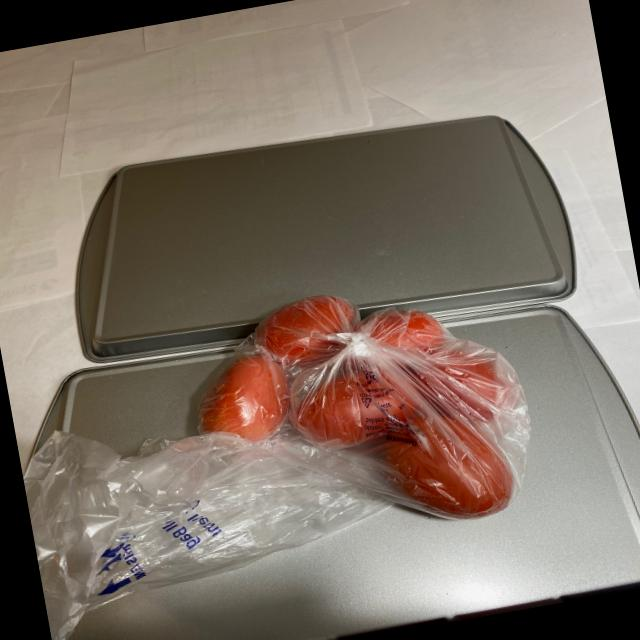tomato: (166, 264, 538, 567)
